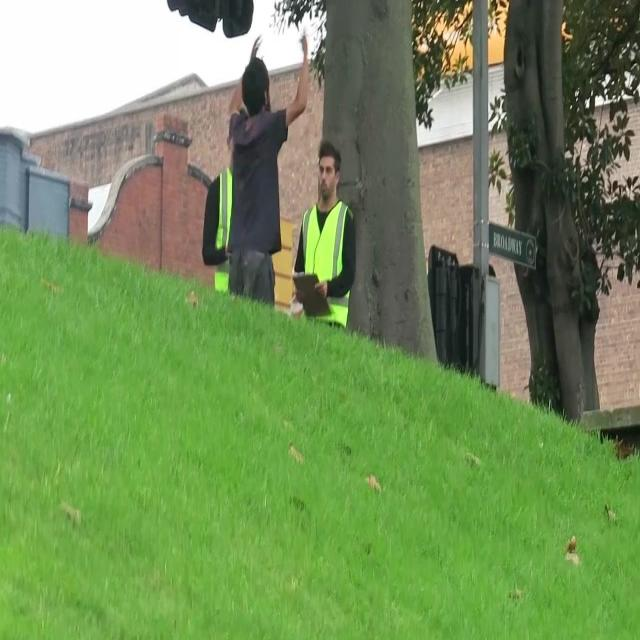Vest: (302, 202, 352, 327), (214, 169, 232, 291)
